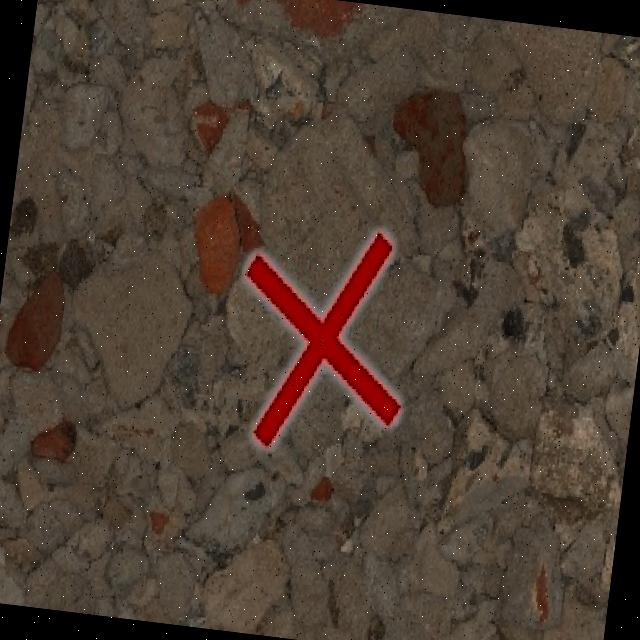x_marker: (224, 216, 418, 459)
